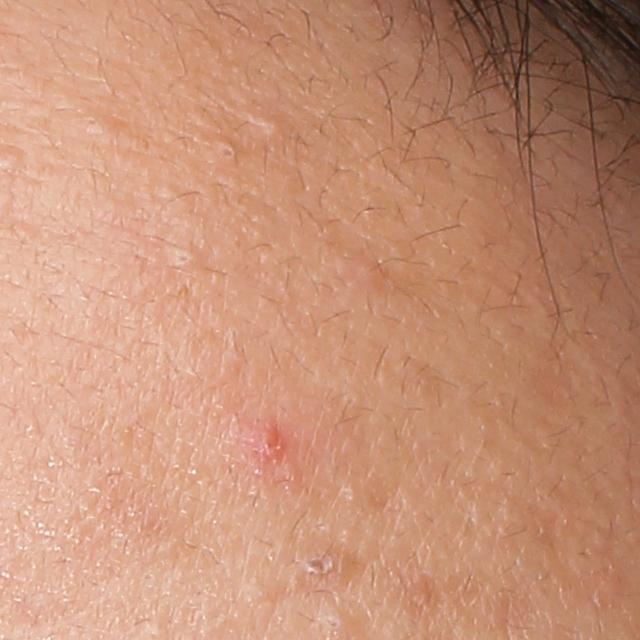comedo: (256, 115, 288, 136), (221, 143, 238, 159)
papule: (252, 425, 284, 463)
